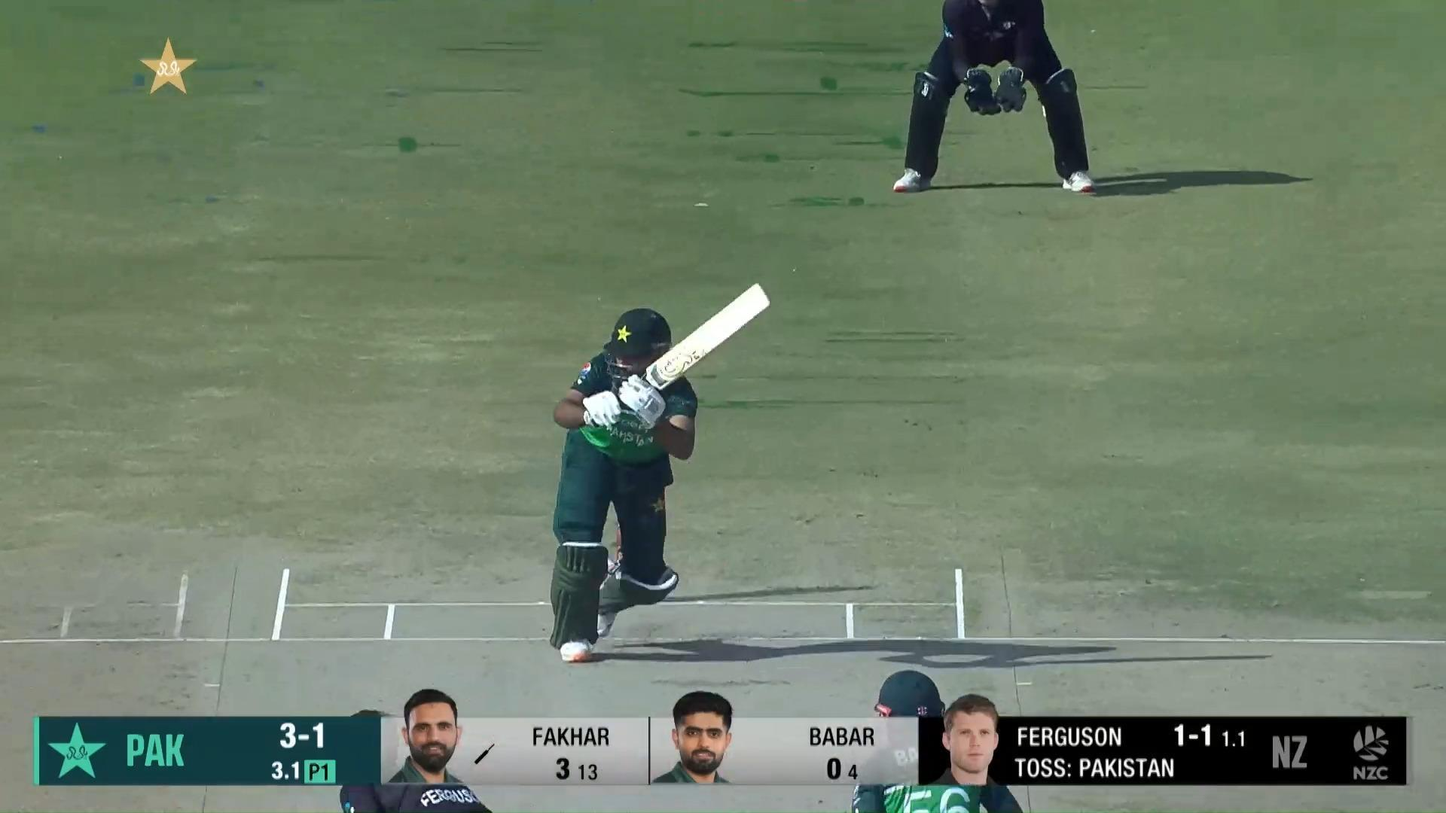BM 1: (548, 274, 776, 667)
BO: (337, 708, 494, 813)
